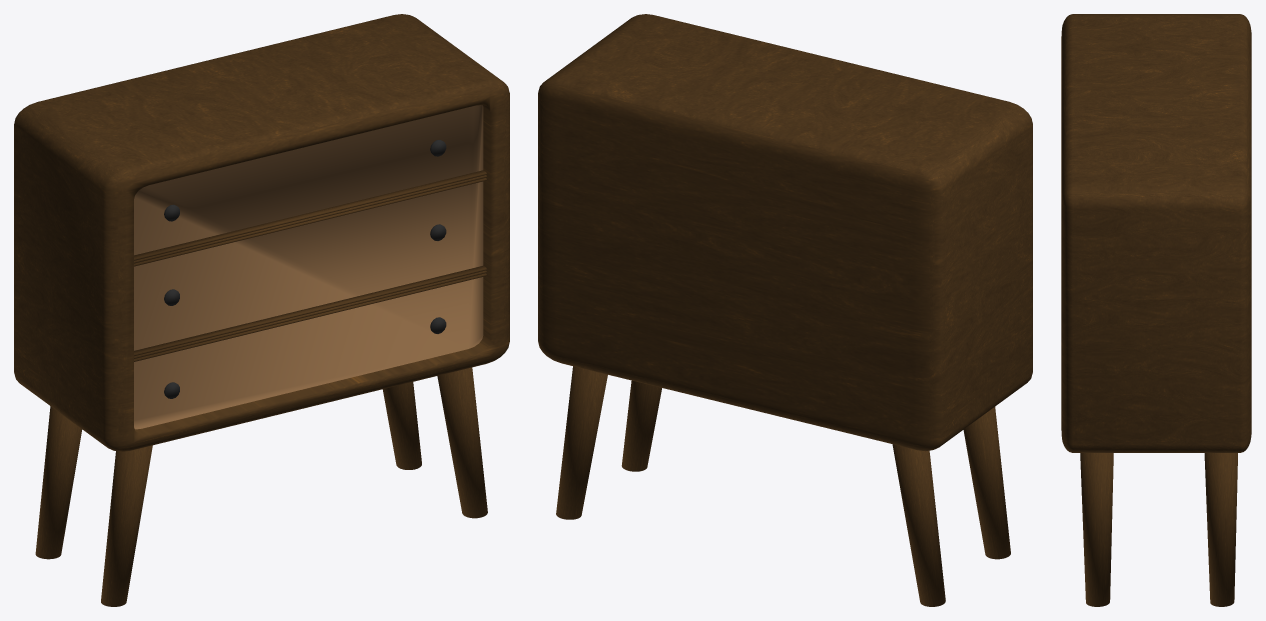
Rendered from finalDresser.fbx.
3 renders of one model, left to right at view 1: azimuth 30°, elevation 25°; view 2: azimuth 150°, elevation 25°; view 3: azimuth 270°, elevation 25°, orthographic. The views are drawn at different scales.
Parts seen in each view (by area): view 1: Cube, Cylinder, Cylinder.003, Cylinder.001, Cylinder.002, Cylinder.004; view 2: Cube, Cylinder.001, Cylinder.002, Cylinder, Cylinder.003; view 3: Cube, Cylinder.003, Cylinder.002.
Part boxes in pixels (bbox=[...]): Cube: bbox=[14, 14, 509, 451]; Cylinder: bbox=[101, 445, 152, 606]; Cylinder.003: bbox=[437, 367, 487, 518]; Cylinder.001: bbox=[35, 406, 82, 559]; Cylinder.002: bbox=[382, 382, 421, 469]; Cylinder.004: bbox=[164, 140, 446, 398]; Cube: bbox=[538, 14, 1032, 451]; Cylinder.001: bbox=[892, 444, 945, 606]; Cylinder.002: bbox=[556, 366, 607, 519]; Cylinder: bbox=[963, 407, 1010, 559]; Cylinder.003: bbox=[621, 380, 661, 471]; Cube: bbox=[1061, 14, 1251, 452]; Cylinder.003: bbox=[1080, 453, 1113, 606]; Cylinder.002: bbox=[1204, 453, 1237, 606].
Size of the model in its own units: 91.44 by 95.45 by 39.3.
